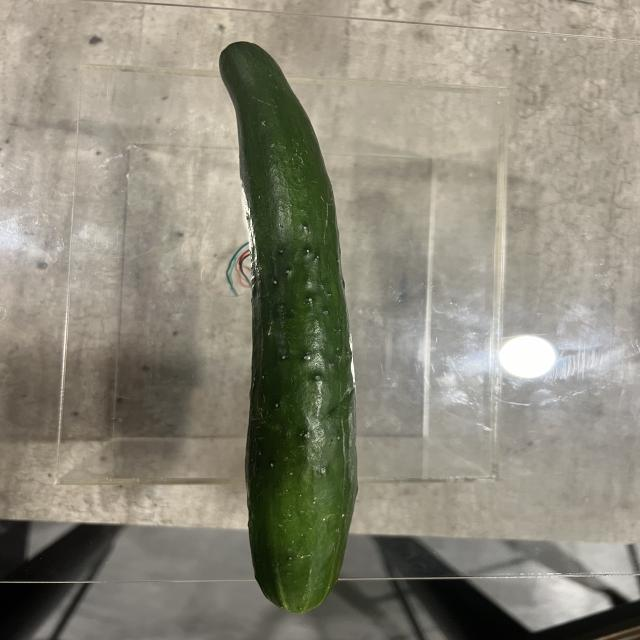cucumber: (219, 39, 360, 618)
